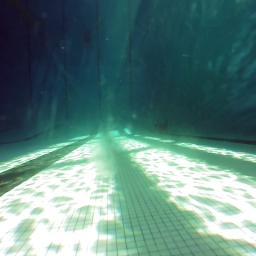Full: (84, 36, 93, 42)
front: (153, 119, 168, 132)
